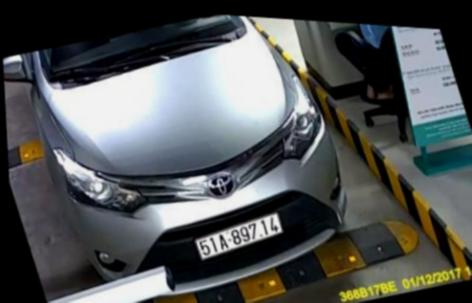License_Plate: (190, 206, 289, 271)
